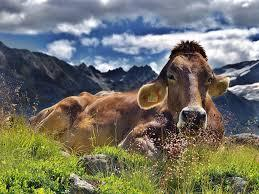cow: (32, 41, 230, 152)
